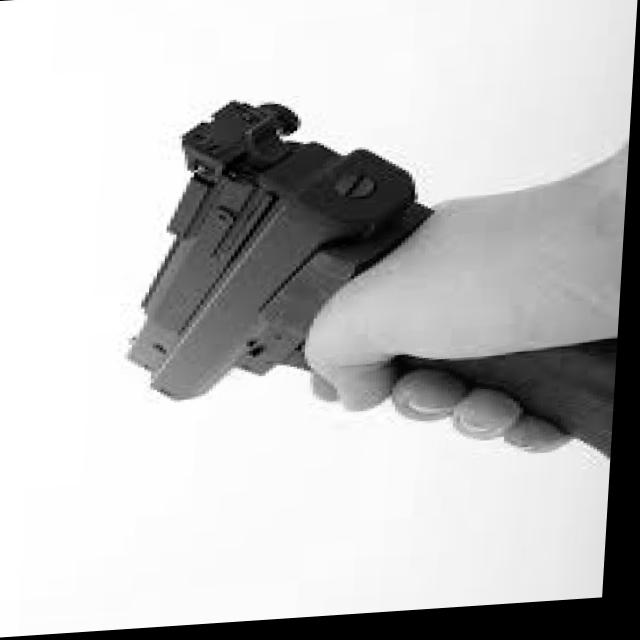handgun: (104, 86, 634, 500)
